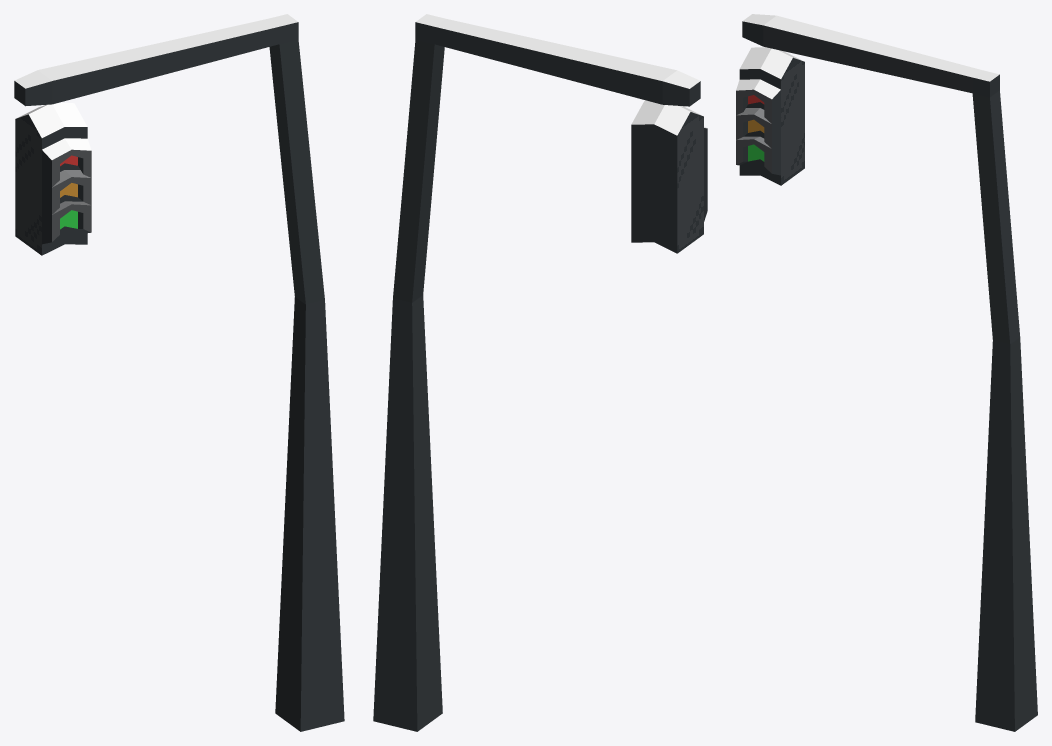
The model's file is trafic1.glb.
3 views of the same model, side by side, from view 1: azimuth 30°, elevation 25°; view 2: azimuth 150°, elevation 25°; view 3: azimuth 330°, elevation 25° (orthographic). The views are drawn at different scales.
Visible parts, largest first — view 1: Cube.005; view 2: Cube.005; view 3: Cube.005.
Part boxes in pixels (x1,y1,x2,y2): Cube.005: [14, 14, 344, 731]; Cube.005: [373, 14, 707, 731]; Cube.005: [736, 14, 1037, 731].
Size of the model in its own units: 126 by 273 by 23.44.
Materials: 1 (1 with a texture image).
